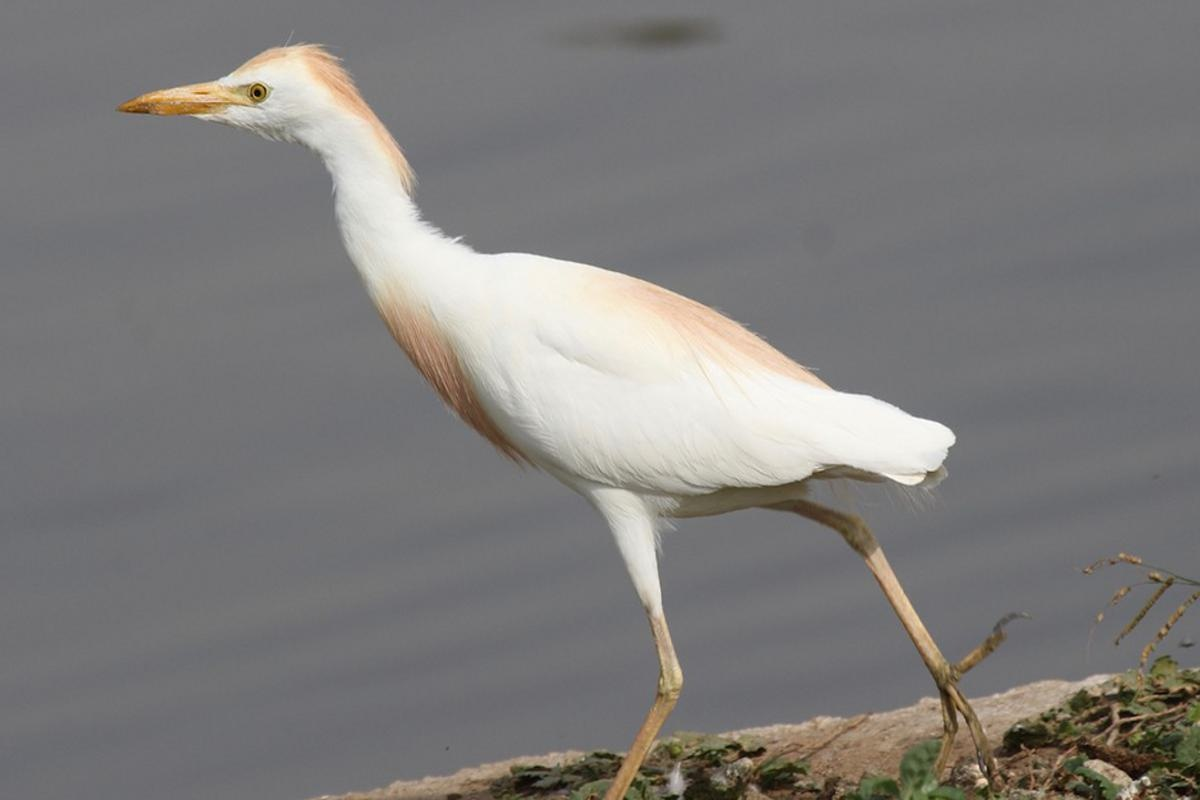egret: (114, 31, 1060, 770)
